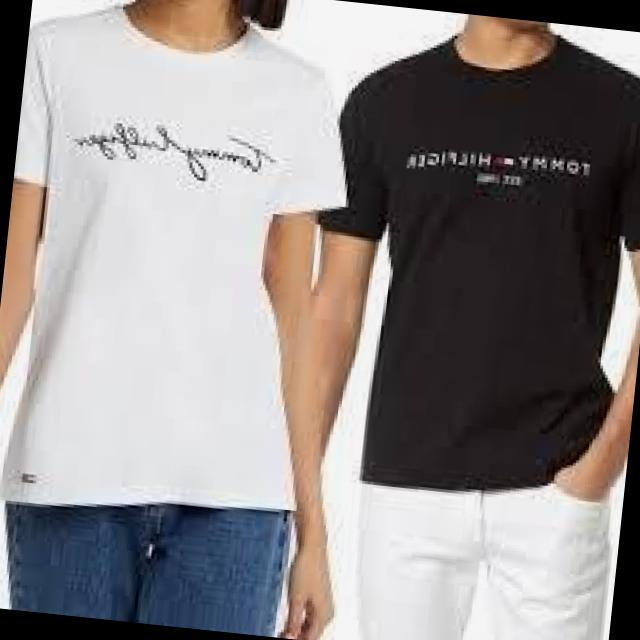Tshirt: (0, 0, 366, 566), (299, 9, 640, 518)
